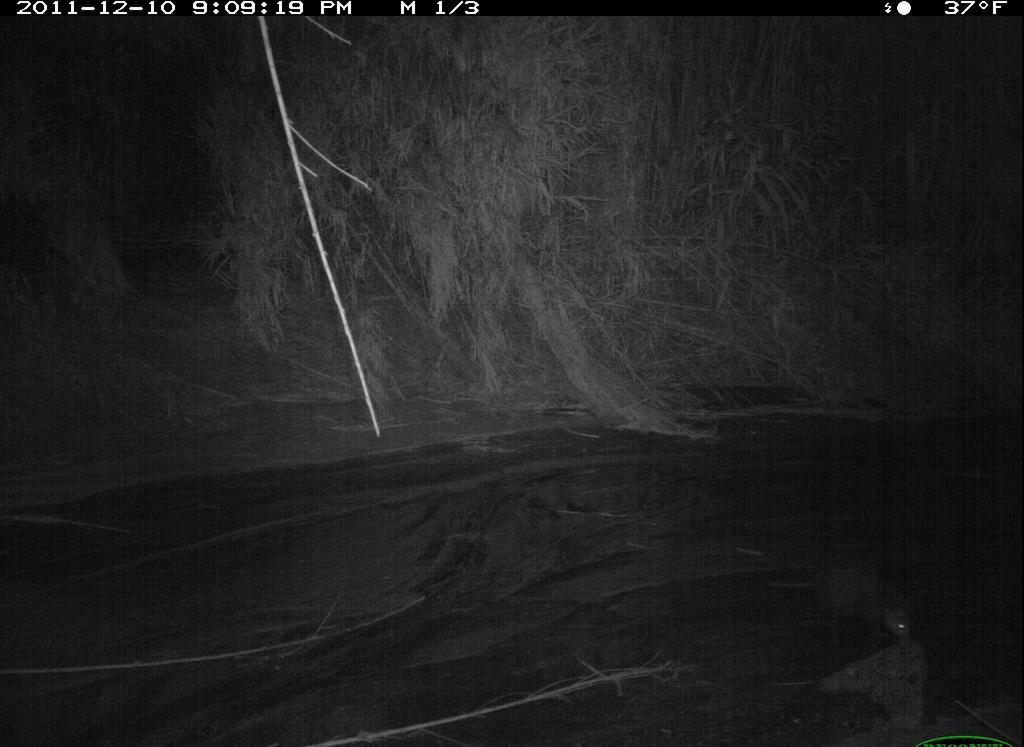opossum: (812, 539, 954, 698)
